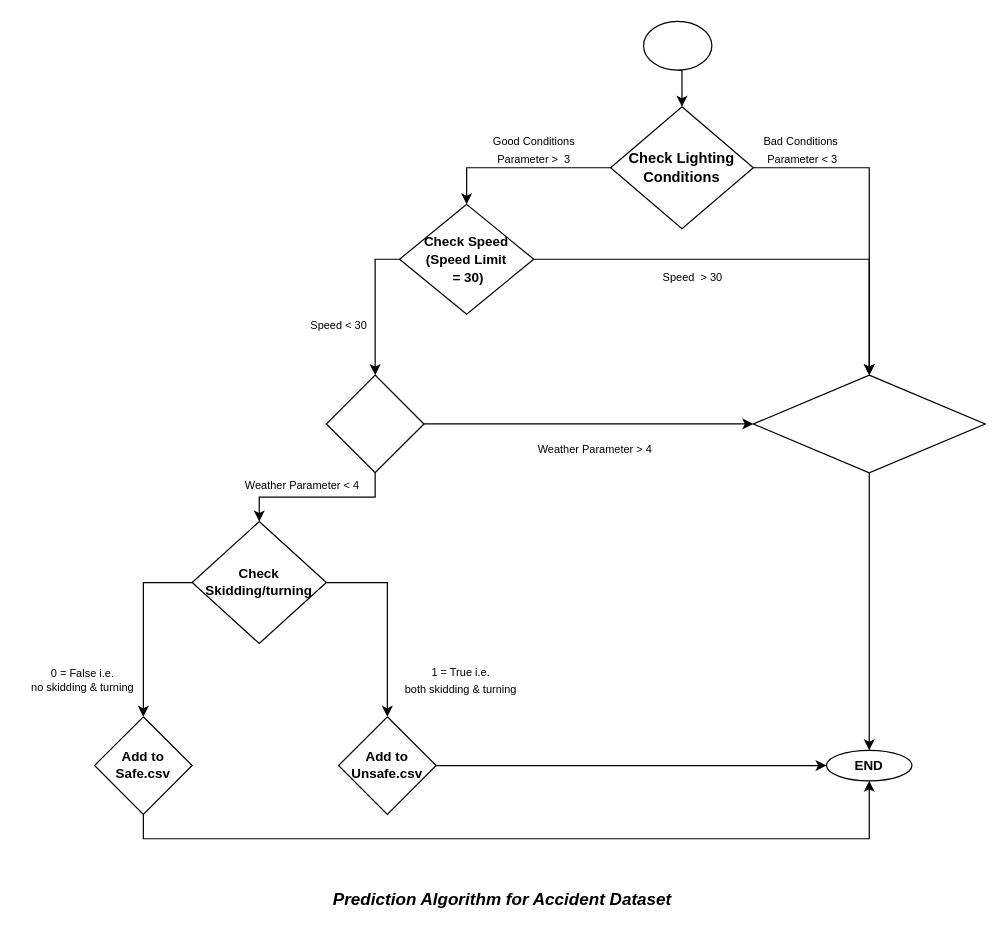
The diagram is 1007 pixels wide and 933 high, and some of its shapes have lost their labels. The shapes that lost their labels are listed below. From the top down, each one's box as (x1, y1, x2, y2) in pixels, then its label:
(642, 20, 712, 70): START
(325, 374, 424, 473): Check Weather
(752, 374, 985, 473): Add to NotCompletelySafe.csv
